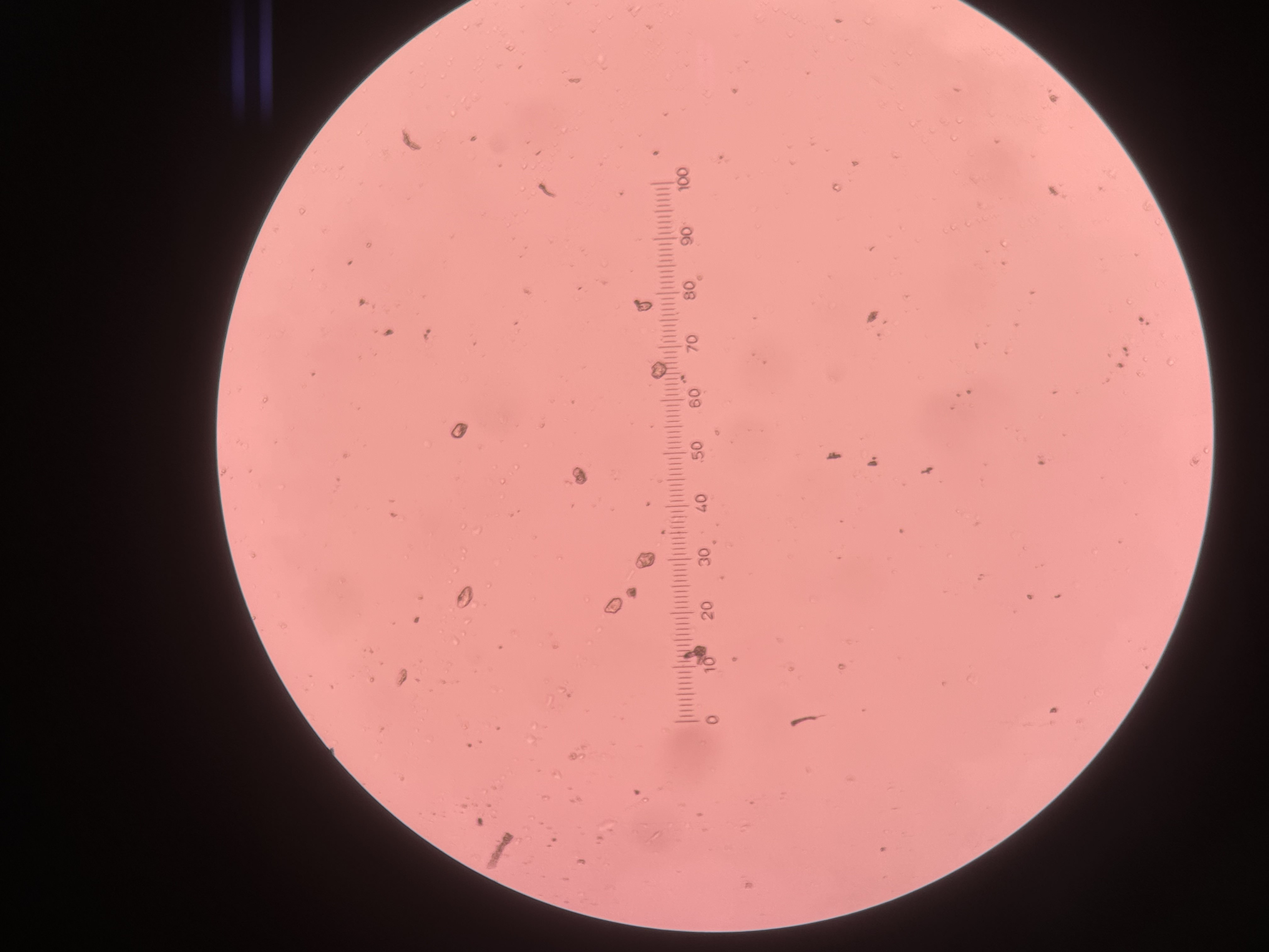microplastic: (486, 831, 519, 874), (454, 584, 479, 609), (450, 420, 475, 445), (400, 127, 422, 155), (599, 598, 630, 617), (630, 551, 661, 569), (539, 175, 558, 202), (650, 360, 669, 381), (631, 297, 655, 311), (573, 467, 587, 490), (627, 586, 641, 598)
